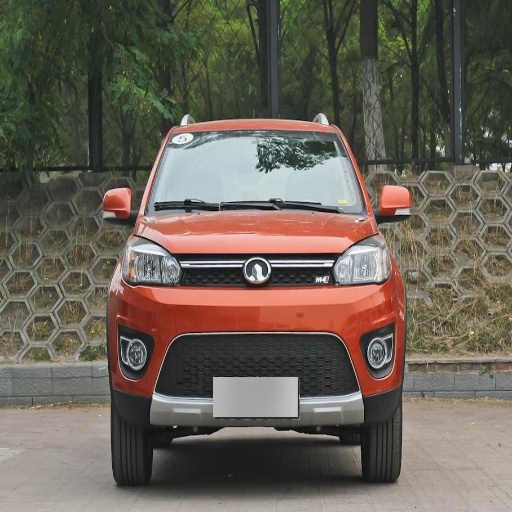front_bumper: (112, 253, 402, 431)
front_right_light: (122, 238, 182, 286)
hood: (137, 210, 375, 255)
left_mirror: (376, 185, 413, 222)
